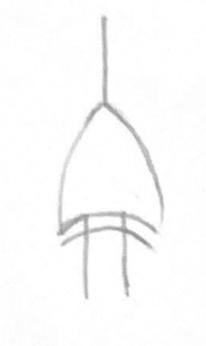XOR: (45, 95, 186, 262)
